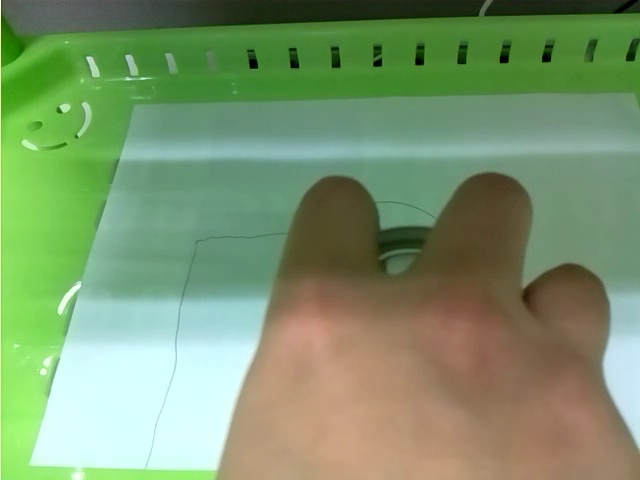hand: (223, 170, 638, 478)
